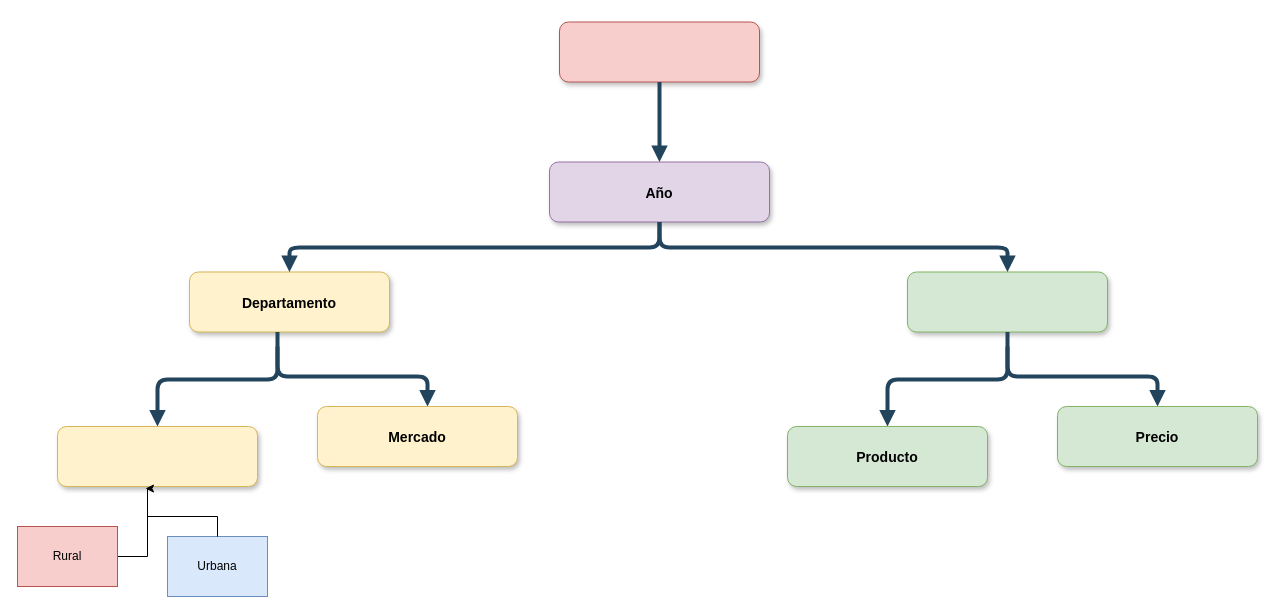
The diagram is 1281 pixels wide and 614 high, and some of its shapes have lost their labels. Each missing label, with the centre of its shape:
Ciudad: point (158, 458)
Grupo: point (1008, 303)
IPC Integrated Food Security Phase Classification: point (660, 53)
